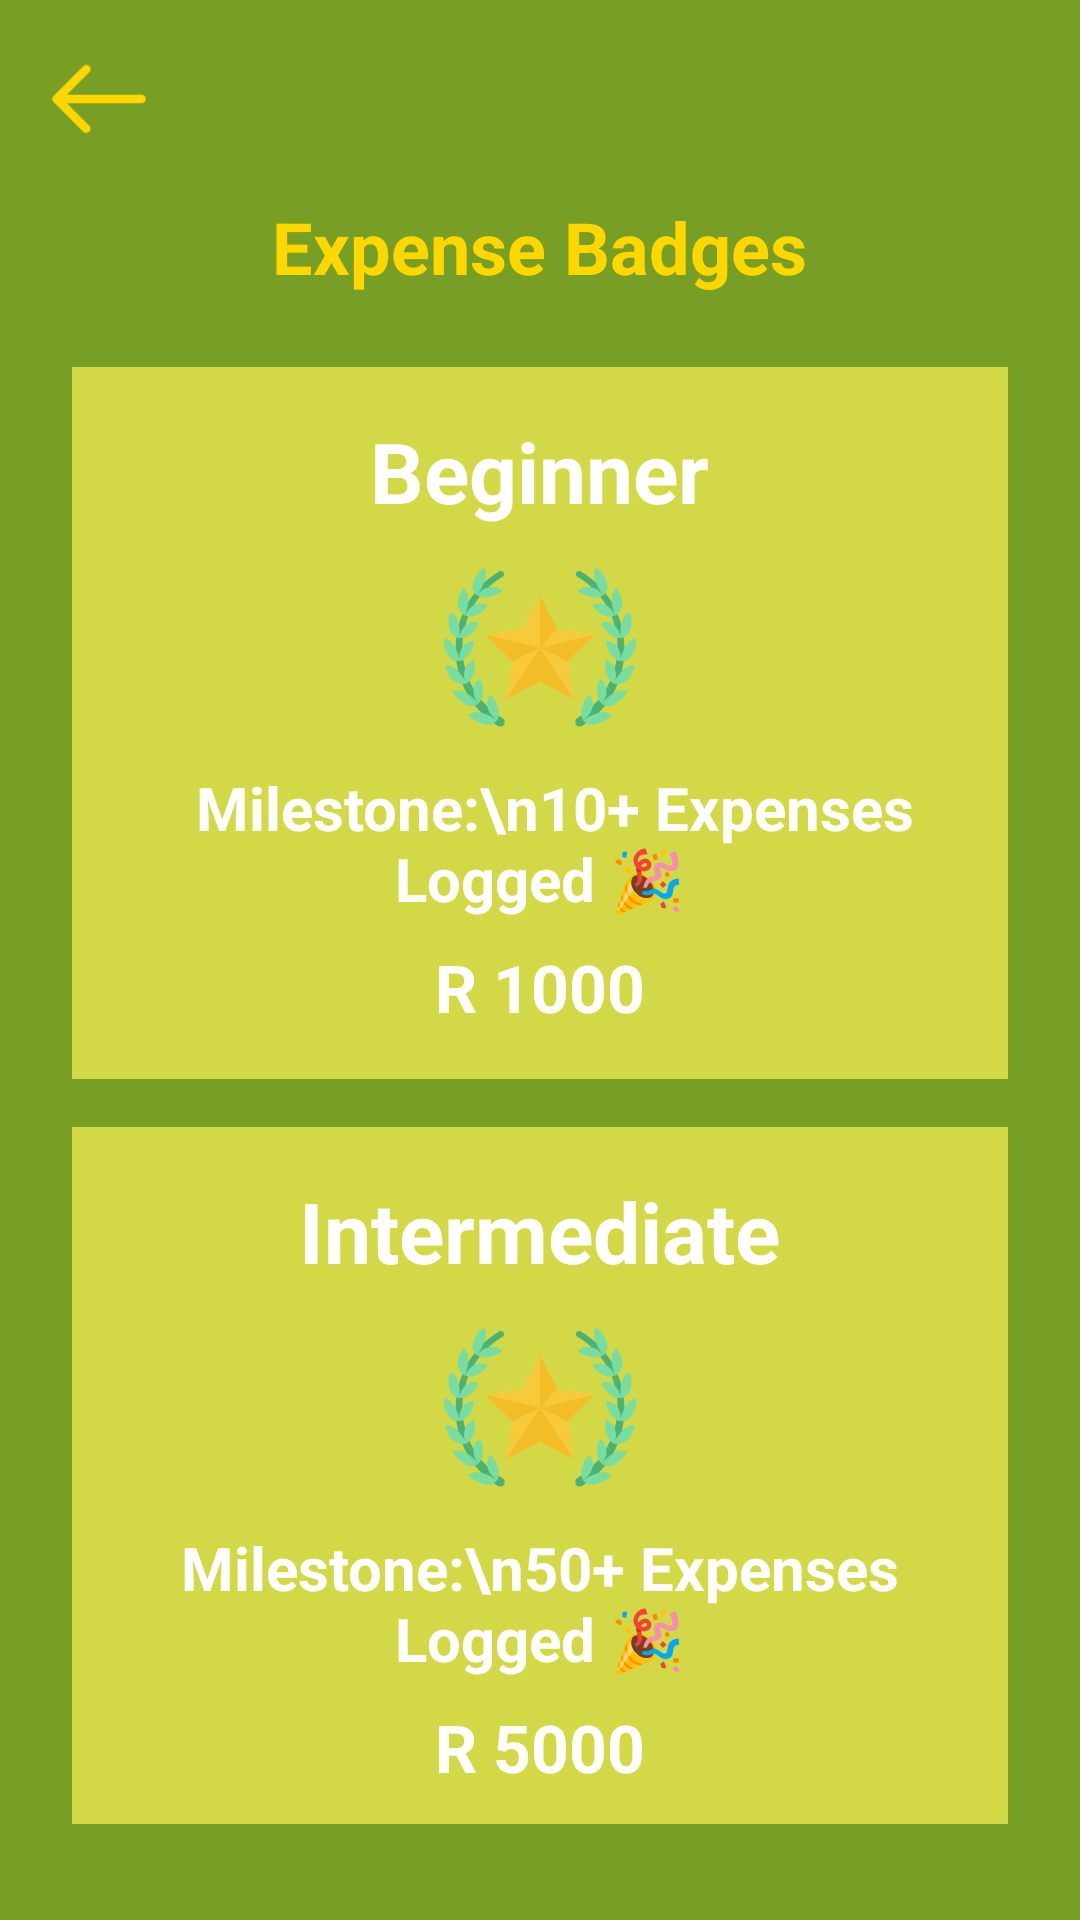

Point at icon controls on the screen. Image size 1080px×1920px, points as point (x, y).
back: point (99, 99)
star: point (540, 647), point (540, 1407)
